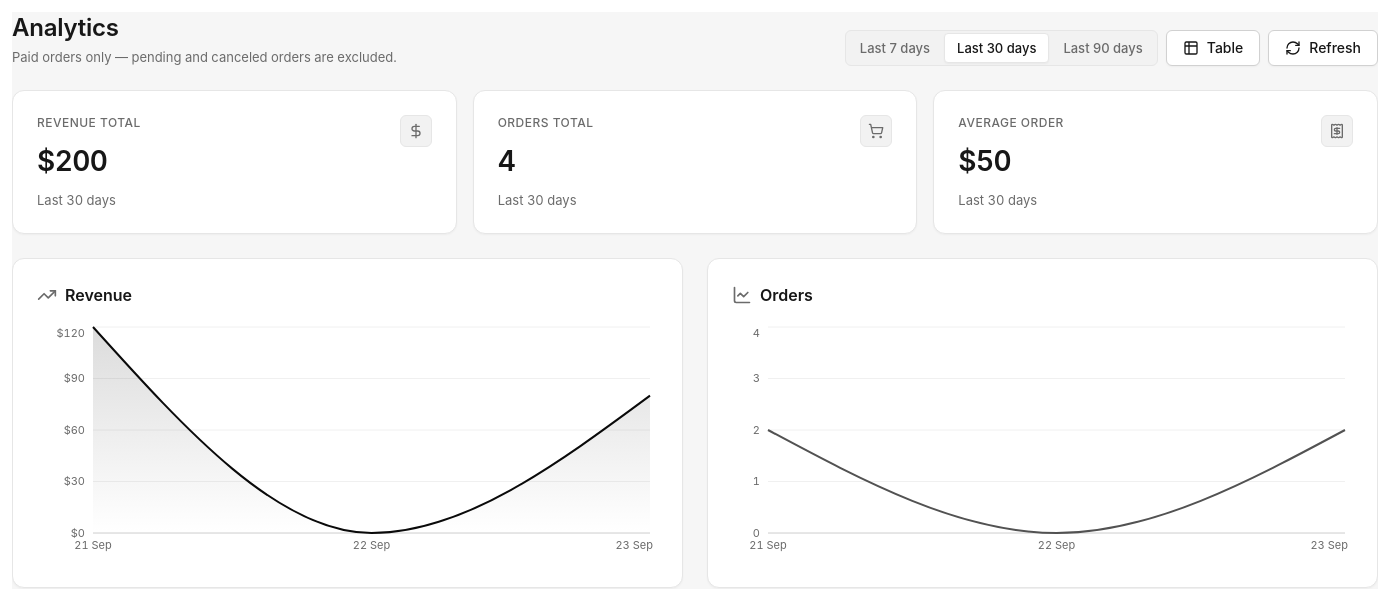
Analytics page › offers a table view of the same series for readers who cannot use the chart
Expected: the text "$200" is shown, x1=37 y1=144 x2=107 y2=178
Click the button "Table" at (1213, 48), box x1=1166 y1=30 x2=1260 y2=66
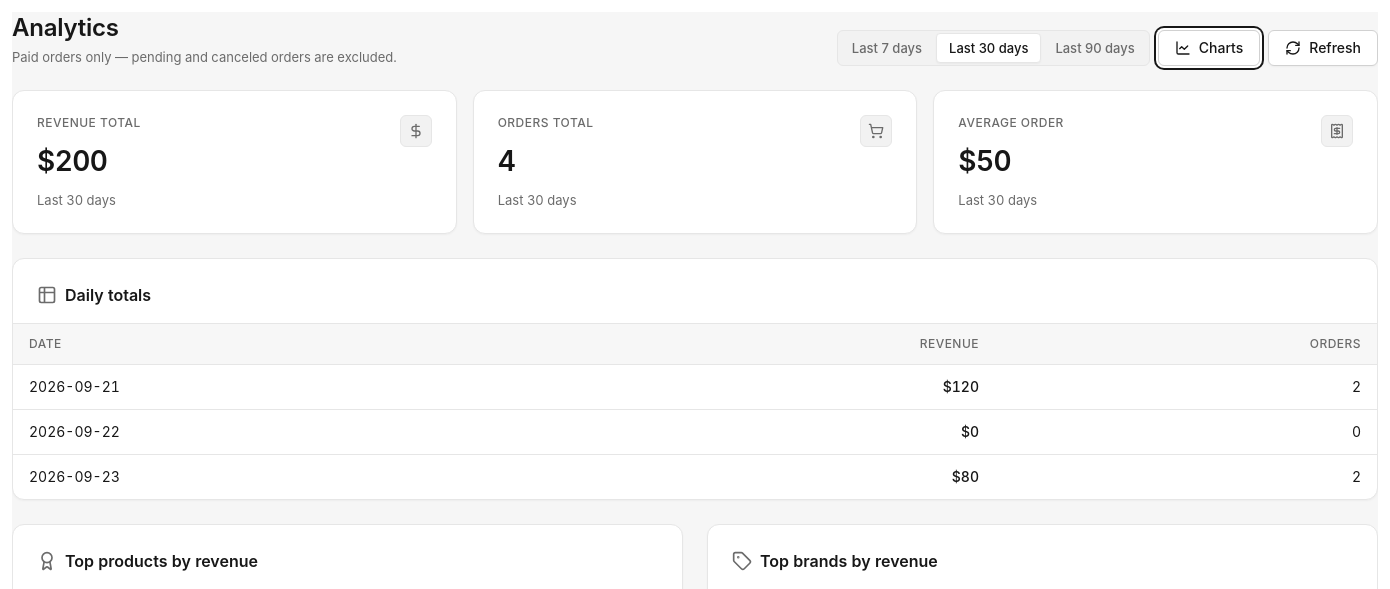
Expected: the heading "Daily totals" is shown, x1=65 y1=283 x2=151 y2=307
Expected: the text "2026-09-21" is shown, x1=13 y1=364 x2=576 y2=409
Expected: the text "2026-09-22" is shown, x1=13 y1=409 x2=576 y2=454
